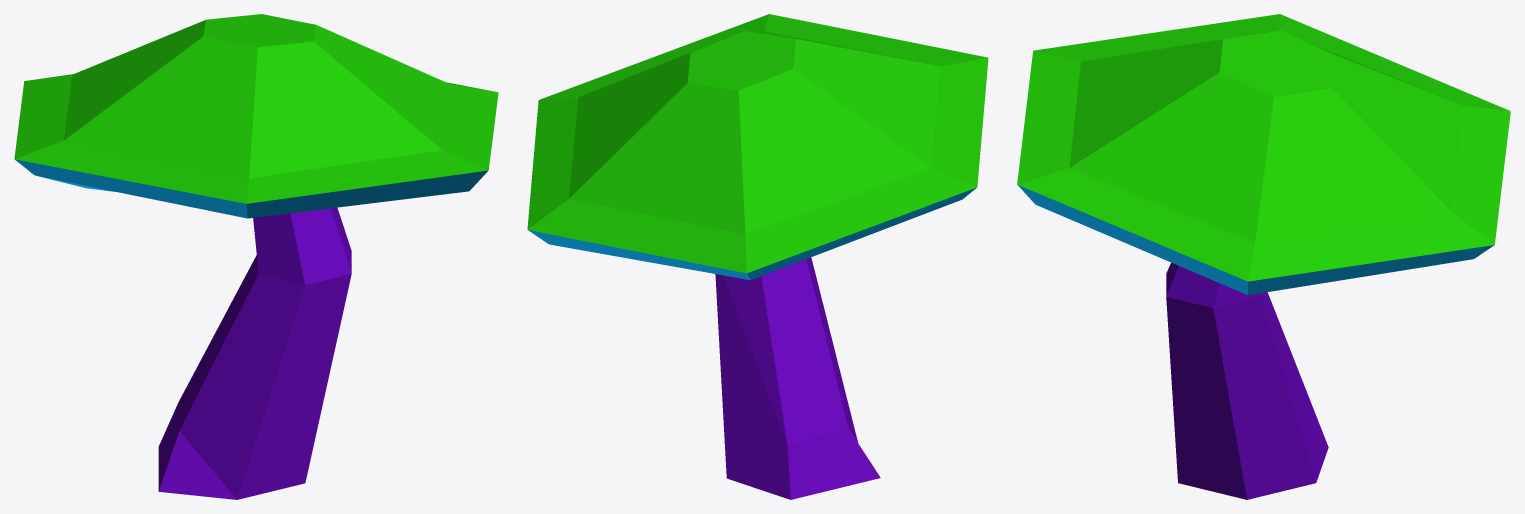
File: Zach Mushroom.fbx
The picture shows the model from 3 angles, left to right: view 1: azimuth 30°, elevation 25°; view 2: azimuth 150°, elevation 25°; view 3: azimuth 270°, elevation 25°; orthographic projection. The views are drawn at different scales.
Visible parts, largest first — view 1: Cylinder; view 2: Cylinder; view 3: Cylinder.
Part boxes in pixels (x1=…): Cylinder: x1=14, y1=14, x2=498, y2=499; Cylinder: x1=527, y1=14, x2=988, y2=499; Cylinder: x1=1017, y1=14, x2=1510, y2=499.
Size of the model in its own units: 786 by 683 by 709.
